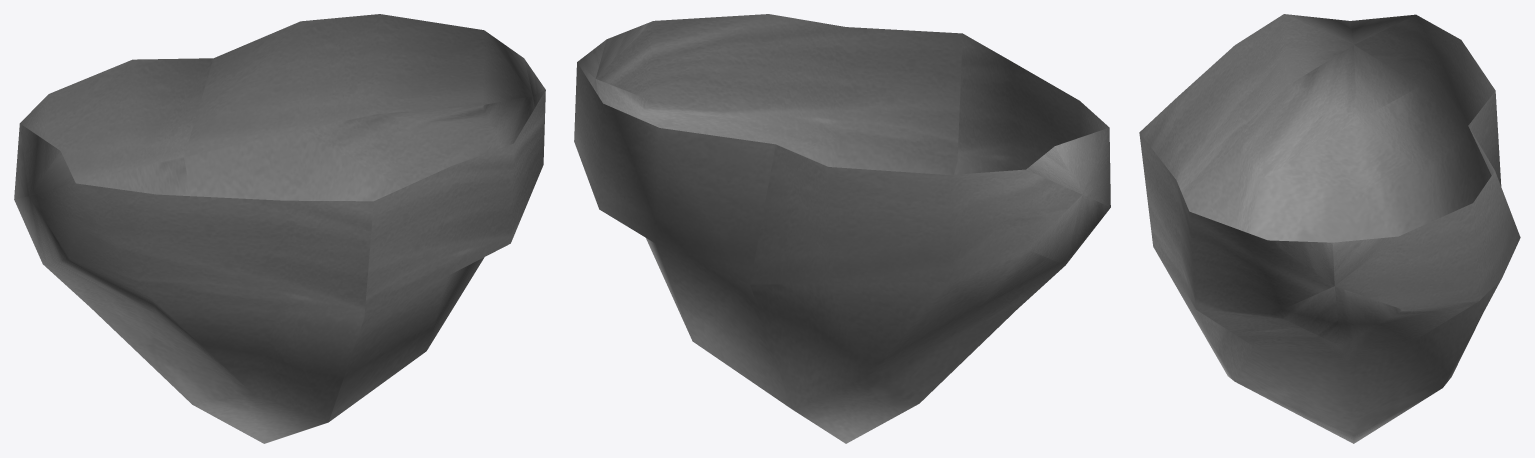
File: Stone_01.fbx
3 renders of one model, left to right at view 1: azimuth 30°, elevation 25°; view 2: azimuth 150°, elevation 25°; view 3: azimuth 270°, elevation 25°, orthographic. The views are drawn at different scales.
Parts seen in each view (by area): view 1: pSphere4; view 2: pSphere4; view 3: pSphere4.
Part boxes in pixels (<box>): pSphere4: <box>14,14,545,443</box>; pSphere4: <box>574,14,1110,443</box>; pSphere4: <box>1139,14,1520,443</box>.
Size of the model in its own units: 3.58 by 2.41 by 2.52.
